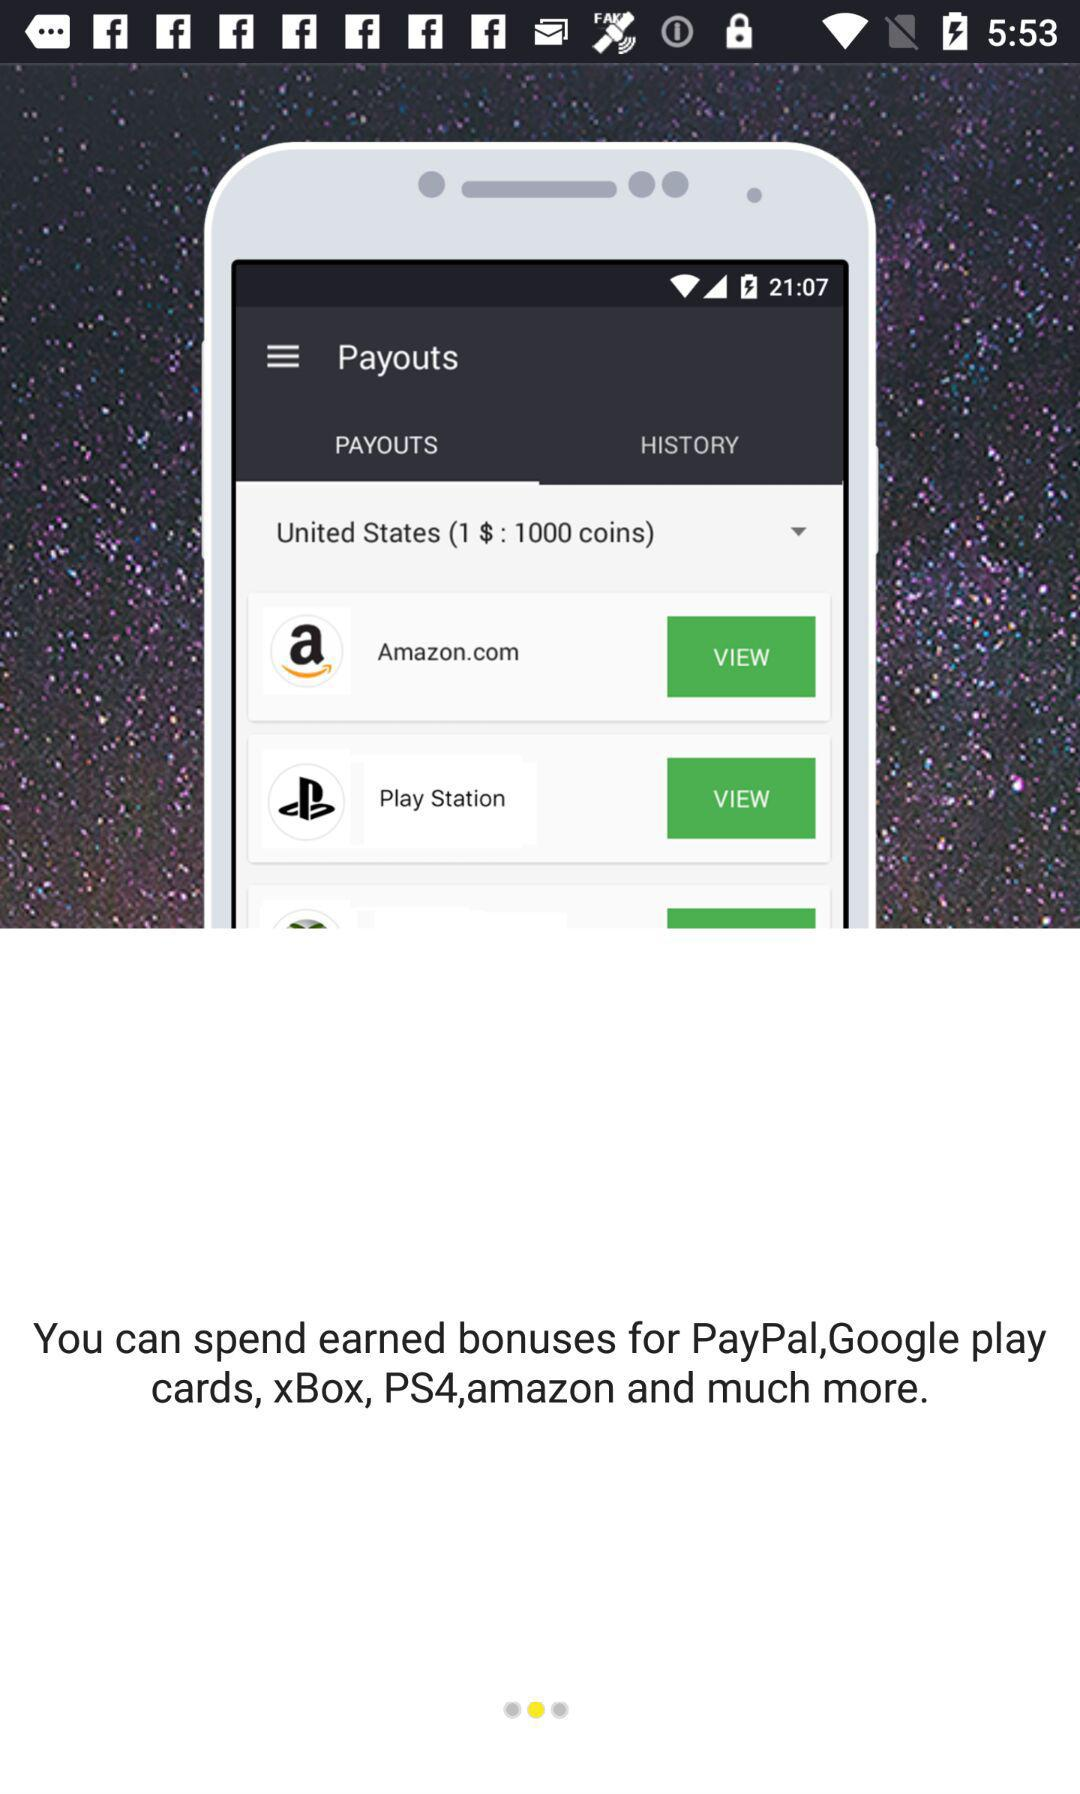Image: (1, 64, 1080, 930)
PageIndicator: (502, 1700, 571, 1721)
Text: (35, 1320, 1048, 1410)
UpperTaskBar: (1, 1, 1080, 64)
